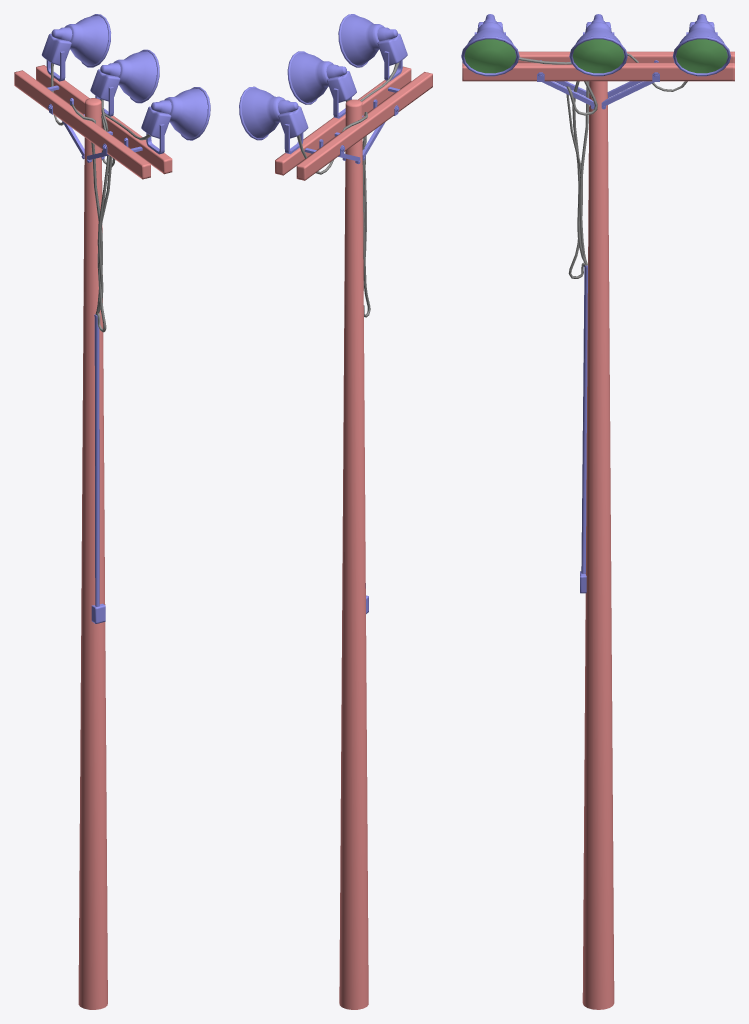
Rendered from Woods_PowerLine_Light_01.gltf.
The picture shows the model from 3 angles, left to right: view 1: azimuth 30°, elevation 25°; view 2: azimuth 150°, elevation 25°; view 3: azimuth 270°, elevation 25°; orthographic projection. The views are drawn at different scales.
Parts seen in each view (by area): view 1: Woods_PowerLine_Light_01; view 2: Woods_PowerLine_Light_01; view 3: Woods_PowerLine_Light_01.
Part boxes in pixels (x1=…): Woods_PowerLine_Light_01: x1=14, y1=14, x2=210, y2=1009; Woods_PowerLine_Light_01: x1=239, y1=14, x2=432, y2=1009; Woods_PowerLine_Light_01: x1=461, y1=14, x2=734, y2=1009.
Size of the model in its own units: 1.49 by 17.37 by 4.32.
